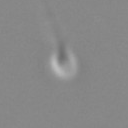normal: (35, 1, 71, 47)
